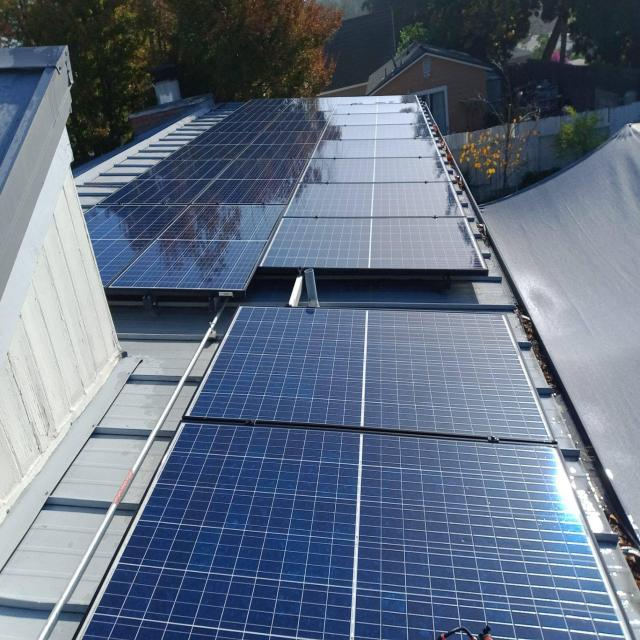clean-solar-panel: (86, 307, 626, 638), (86, 97, 486, 295)
